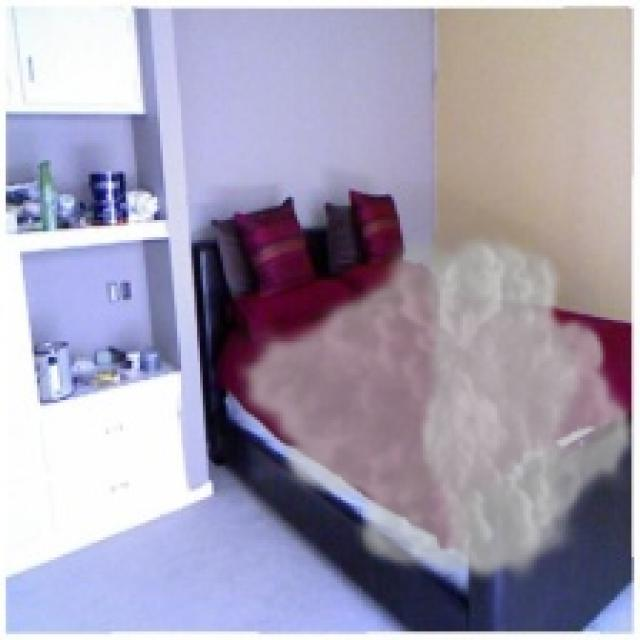Smoke: (234, 226, 637, 588)
